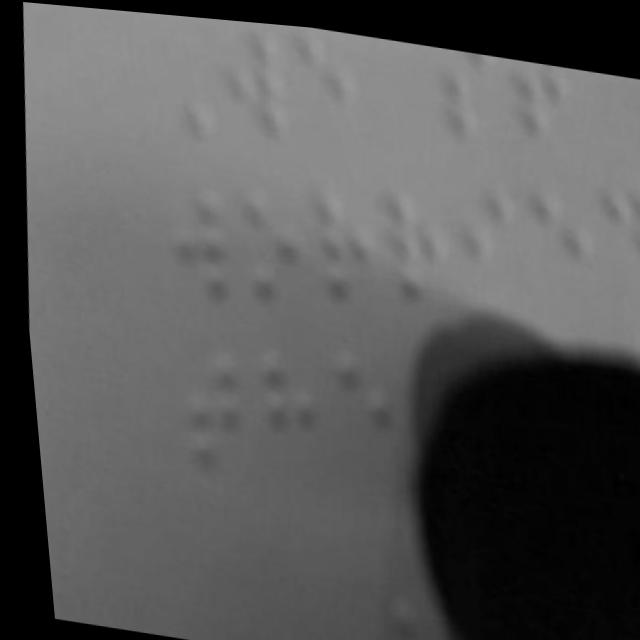braiile: (313, 333, 406, 487), (239, 339, 327, 494), (375, 171, 466, 316), (168, 330, 253, 485), (224, 170, 316, 309), (516, 170, 601, 320), (152, 176, 238, 321), (301, 168, 387, 312), (211, 15, 298, 145), (449, 172, 531, 309)
